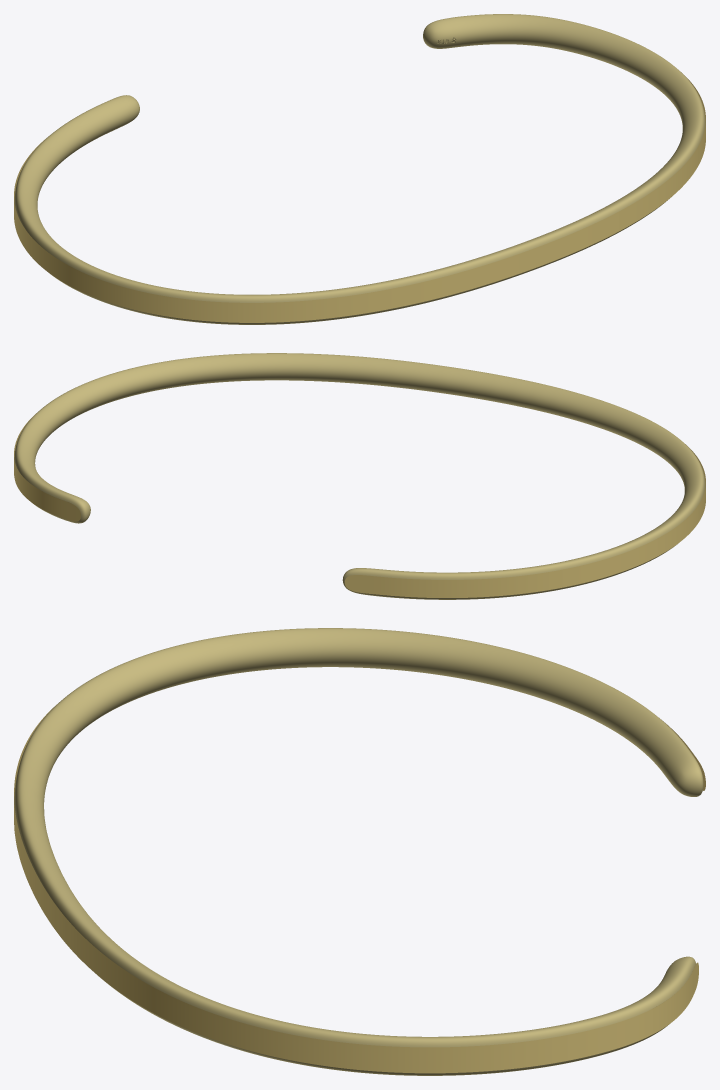
The model's file is bold-gold18.glb.
3 renders of one model, top to bottom at view 1: azimuth 30°, elevation 25°; view 2: azimuth 150°, elevation 25°; view 3: azimuth 270°, elevation 25°, orthographic. The views are drawn at different scales.
Visible parts, largest first — view 1: bold-body.003, bpld-omote.003; view 2: bold-body.003, bpld-omote.003; view 3: bold-body.003, bpld-omote.003.
Boxes of the visible parts, x1,y1,x2,y2 form: bold-body.003: [14, 14, 705, 324]; bpld-omote.003: [14, 72, 705, 322]; bold-body.003: [14, 353, 705, 599]; bpld-omote.003: [14, 413, 705, 597]; bold-body.003: [14, 628, 703, 1075]; bpld-omote.003: [14, 704, 705, 1073].
Bounding box in the file's own units: 3.4 × 0.1422 × 2.39.
2 materials, 2 textured.
